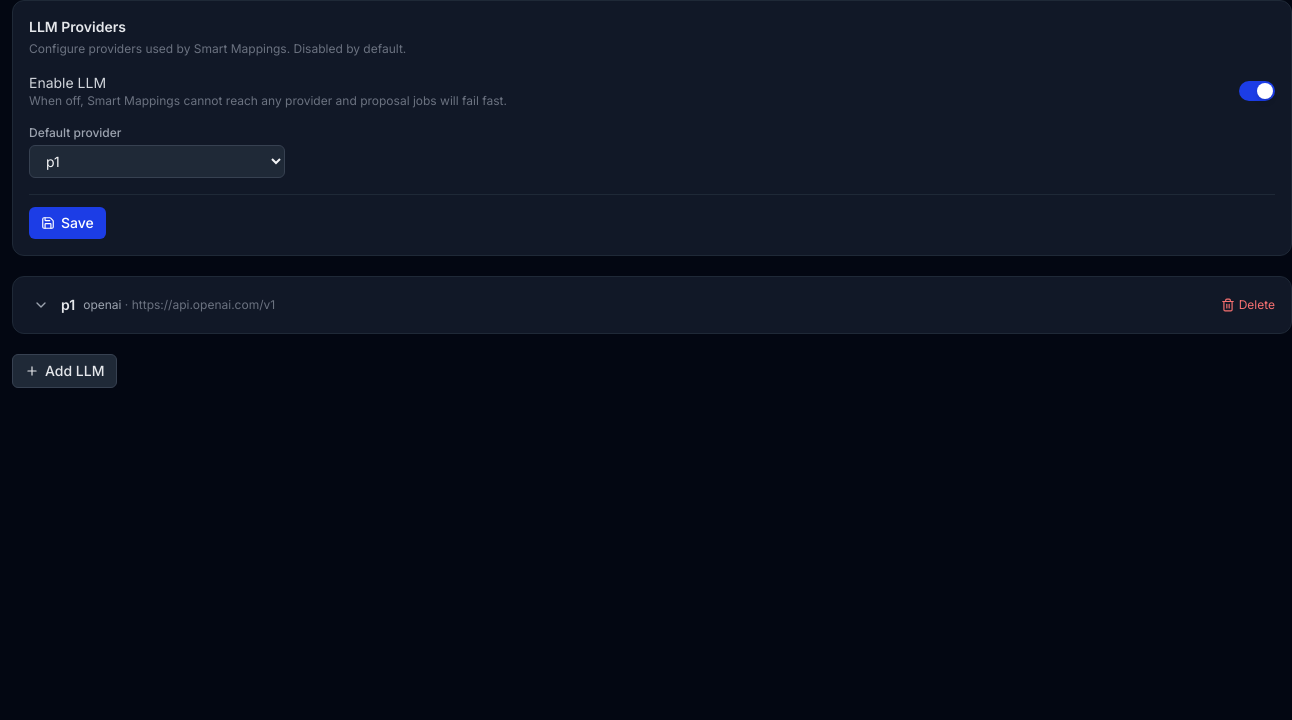
Scenario: ProviderCard (027 step 5: Discover-then-Probe per-card surface) › Save with UNCHANGED base_url persists WITHOUT a connection test or discovery (prompts-036)
Expected: the heading "p1" is shown, [61, 295, 75, 315]
Click the button named "Expand p1" at x=41, y=305, box [29, 293, 53, 317]
(page scrolled)
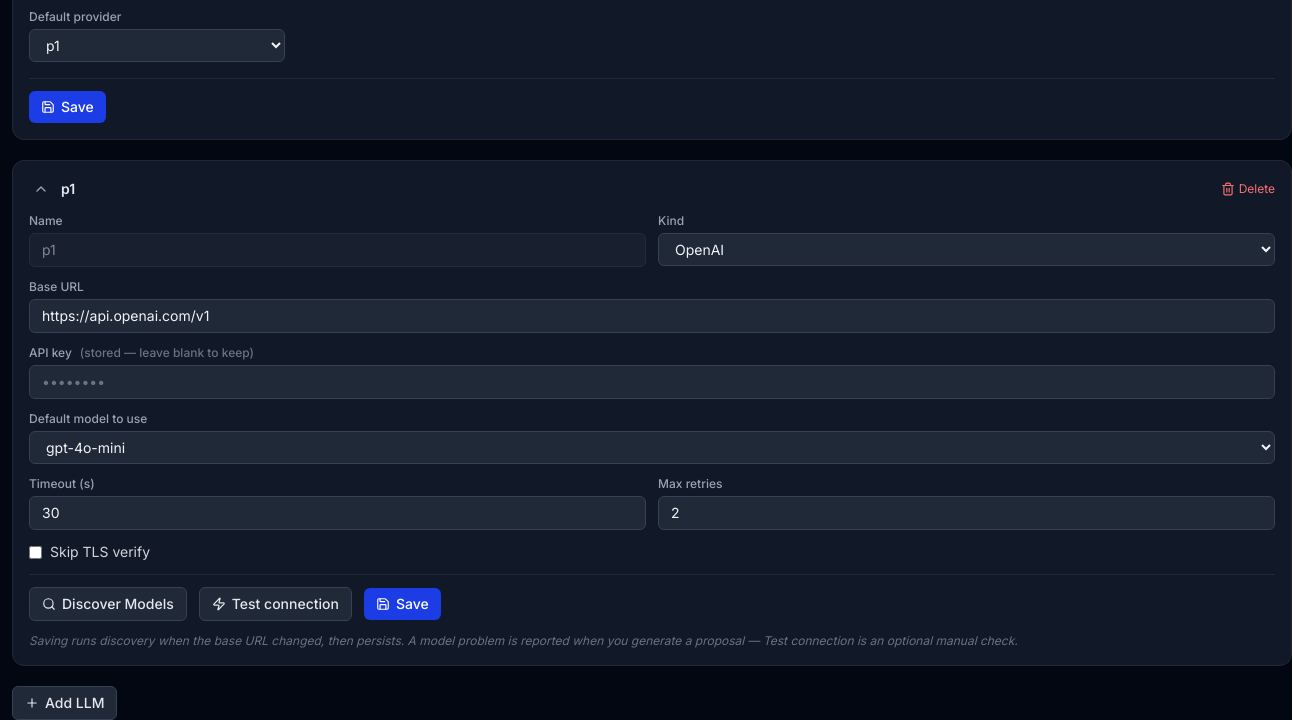
Click the button "Save" below "Skip TLS verify" at x=402, y=604, box [364, 588, 441, 620]
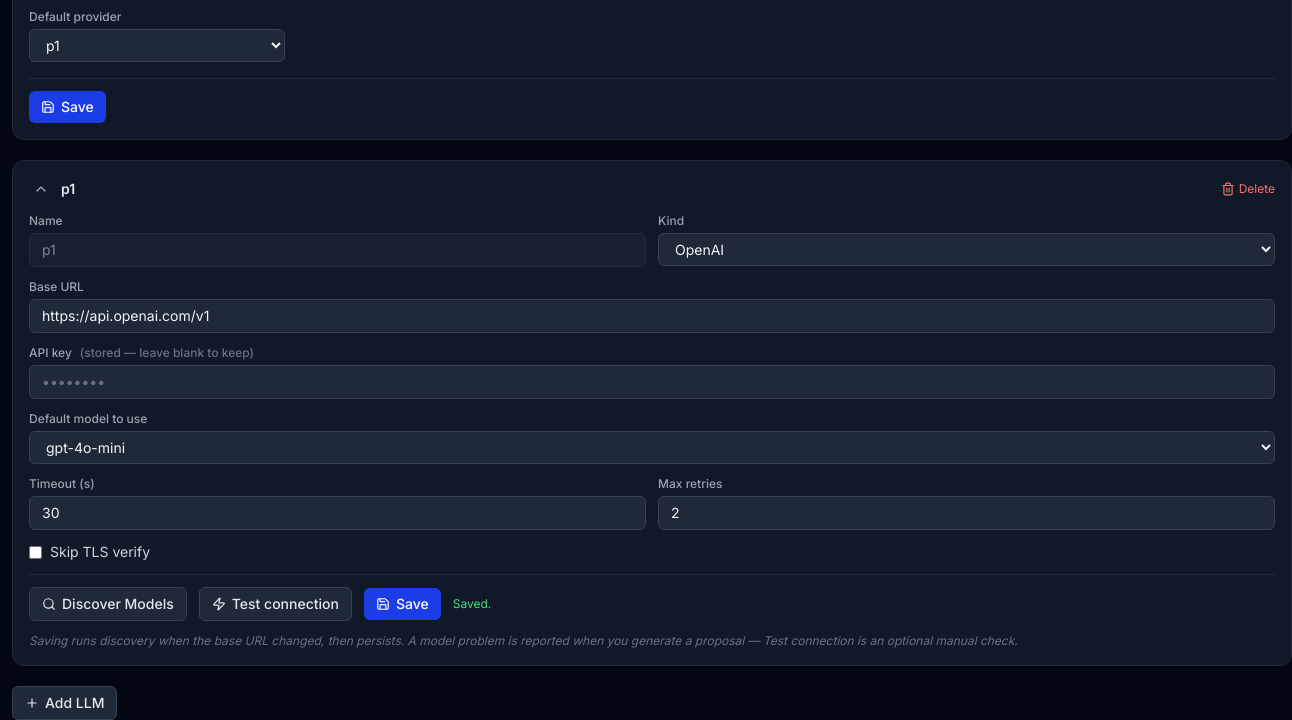
Expected: the text "Saved." is shown, [453, 596, 491, 612]
